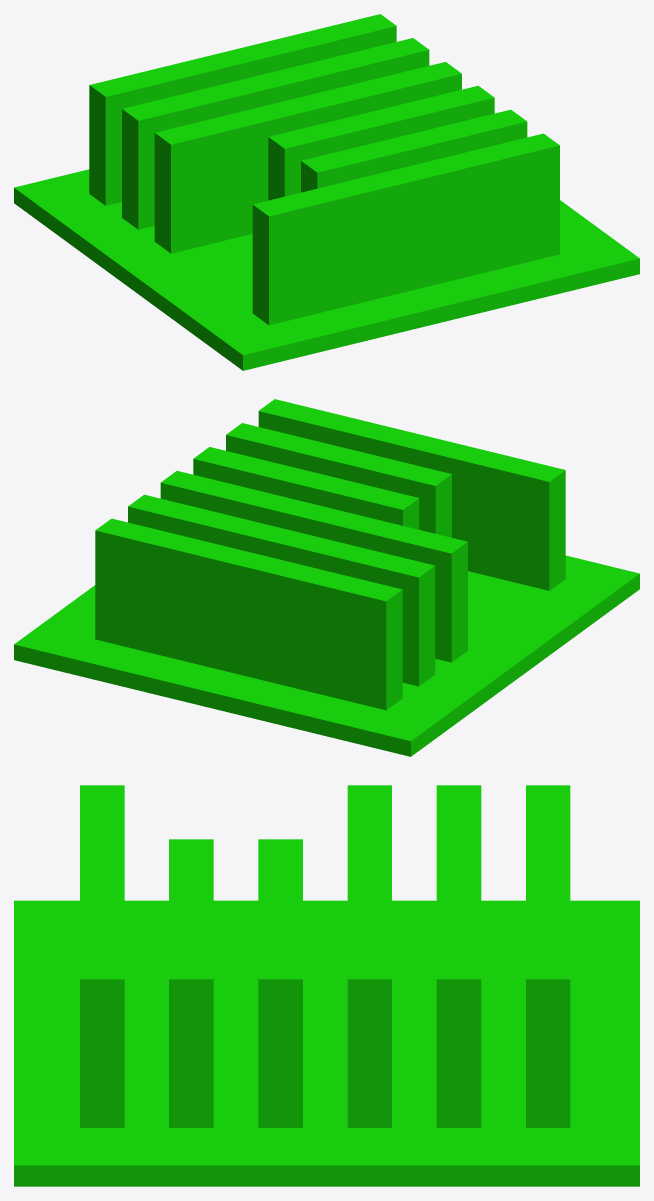
The model's file is perc_2.glb.
The picture shows the model from 3 angles, top to bottom: view 1: azimuth 30°, elevation 25°; view 2: azimuth 150°, elevation 25°; view 3: azimuth 270°, elevation 25°; orthographic projection. The views are drawn at different scales.
Parts seen in each view (by area): view 1: Plane; view 2: Plane; view 3: Plane.
Part boxes in pixels (x1,y1,x2,y2): Plane: [14, 14, 639, 370]; Plane: [14, 399, 639, 756]; Plane: [14, 785, 639, 1186].
Bounding box in the file's own units: 2 × 0.6003 × 2.
